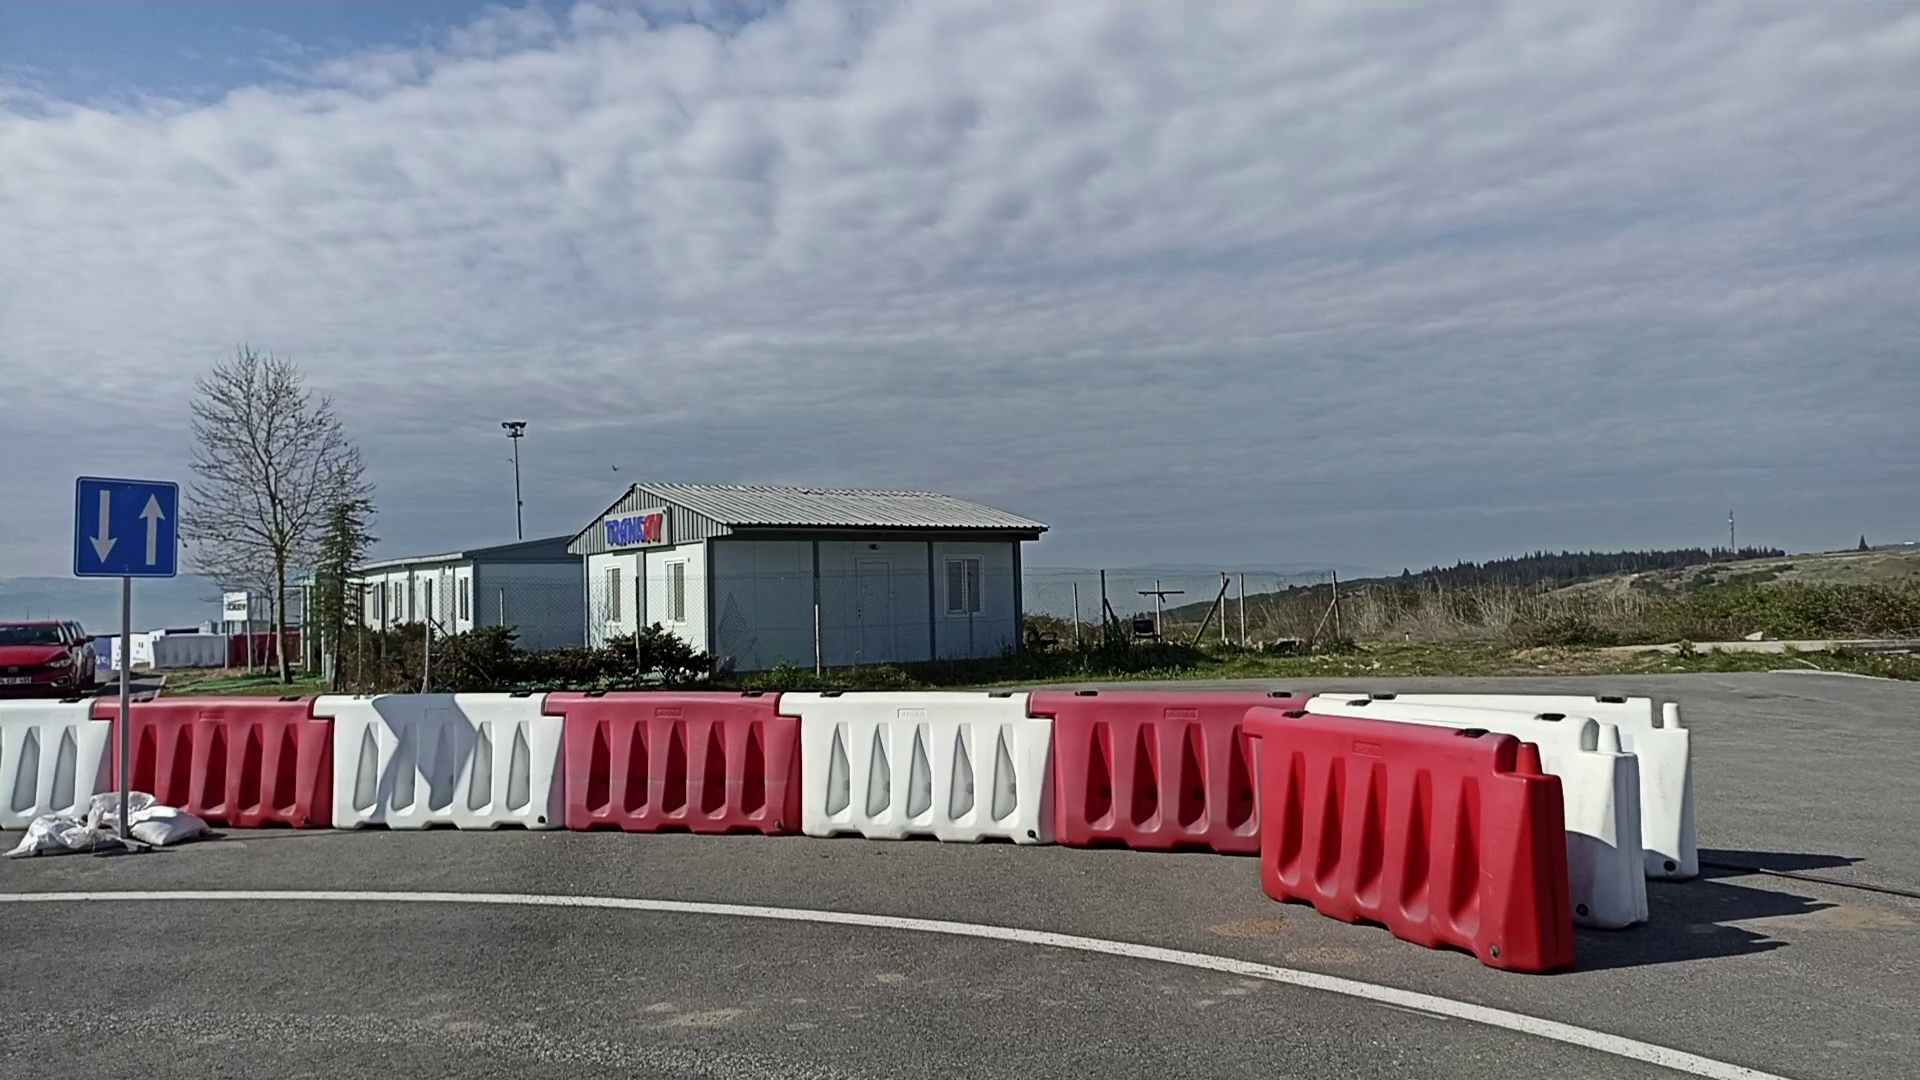oneway: (73, 475, 181, 580)
